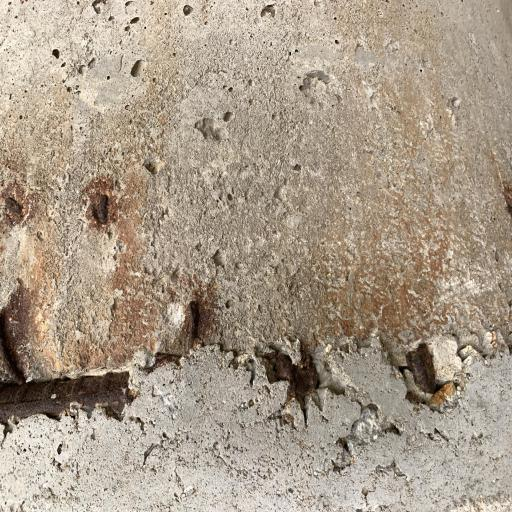exposed_rebar: (0, 311, 134, 424), (141, 301, 199, 374), (265, 343, 321, 397), (407, 350, 435, 393), (94, 194, 108, 224), (6, 197, 22, 216)
